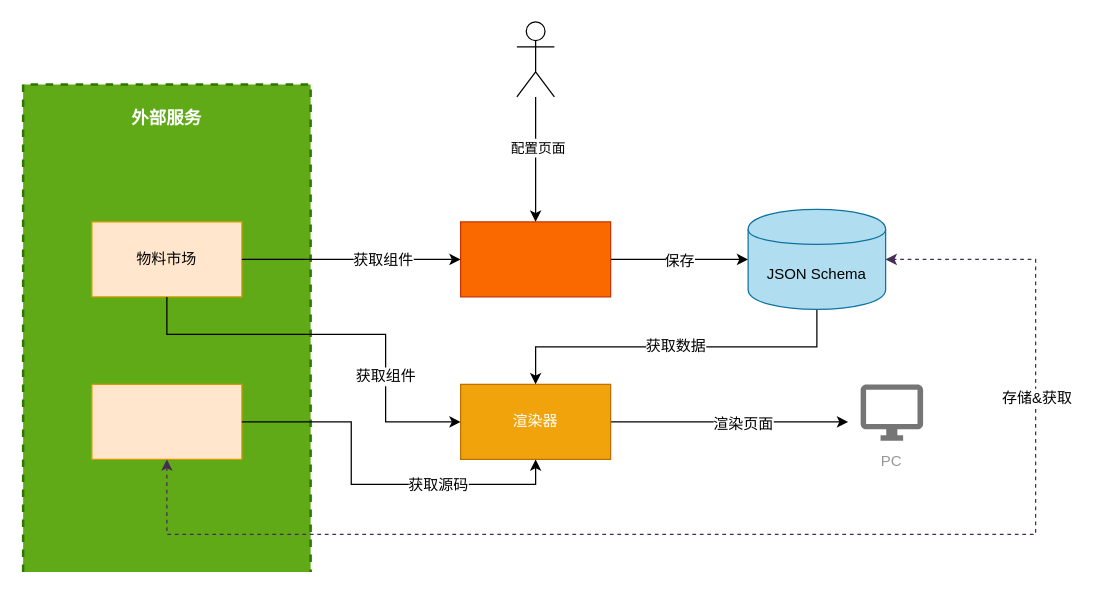
Image size: 1093x595. Some labels were removed from this diagram. Here are the shapes that lost their labels. From the top down, the centre of each, then its label:
At pixel 535 259: "搭建器".
At pixel 166 421: "CDN".
